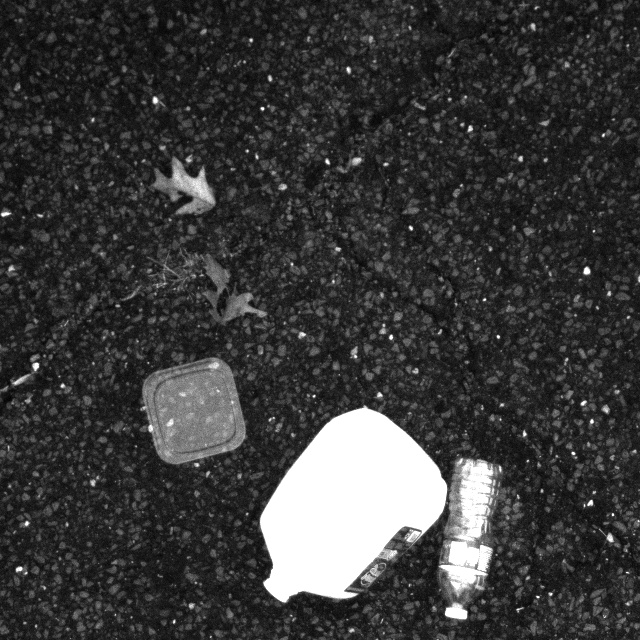bottle: (438, 446, 503, 627)
can: (252, 401, 452, 621)
container: (136, 348, 253, 475)
